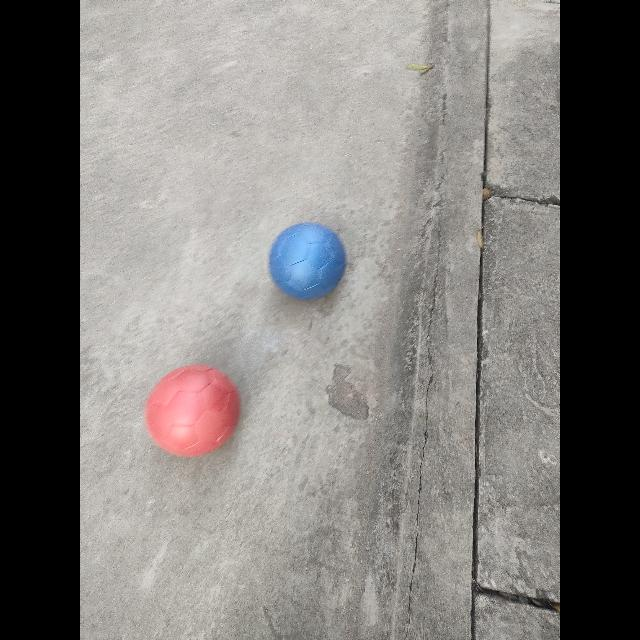B: (267, 222, 347, 302)
R: (144, 364, 242, 456)
